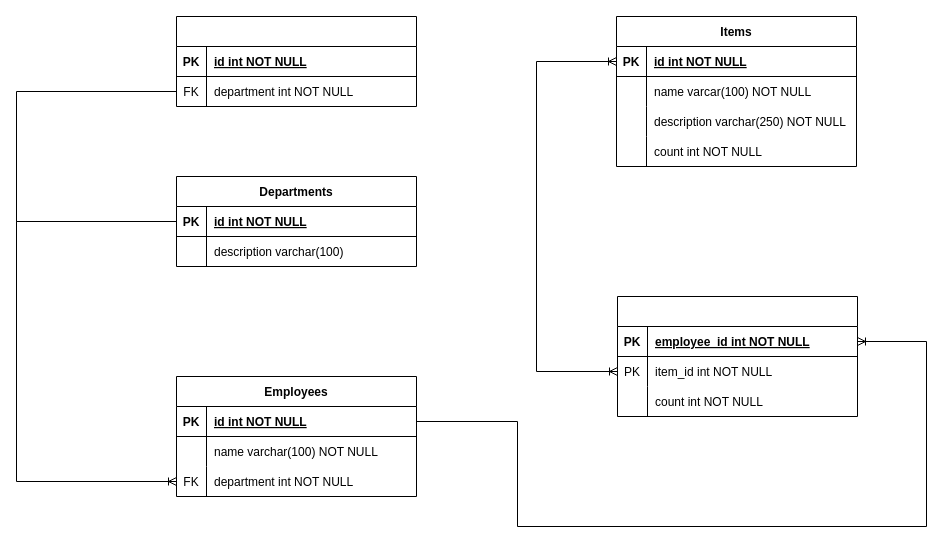
Image size: 943x543. Some labels were removed from this diagram. The box of each missing label's shape, as (x1, y1, x2, y2) in pixels:
Empoyees_items: (616, 296, 858, 416)
Stores: (176, 16, 416, 106)
